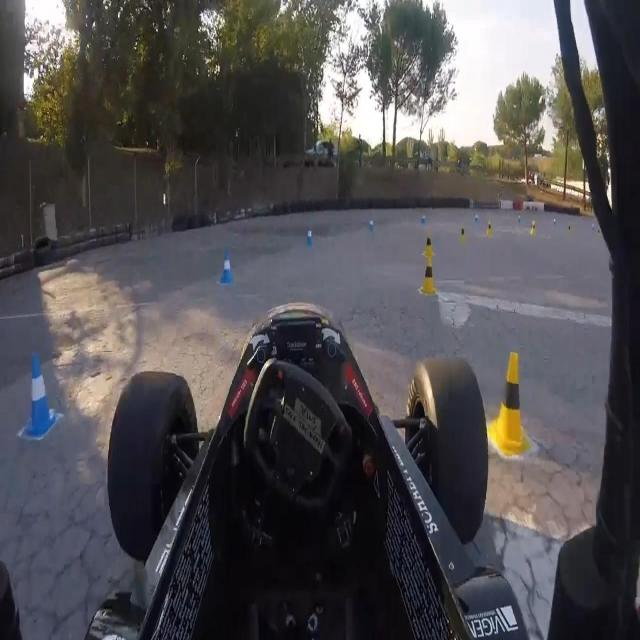blue_cone: (22, 354, 55, 438), (220, 247, 232, 285), (306, 222, 312, 245), (368, 215, 375, 232)
yellow_cone: (492, 353, 530, 451), (424, 257, 436, 295), (424, 232, 434, 258), (458, 221, 466, 247), (486, 218, 494, 236), (530, 220, 537, 238)
